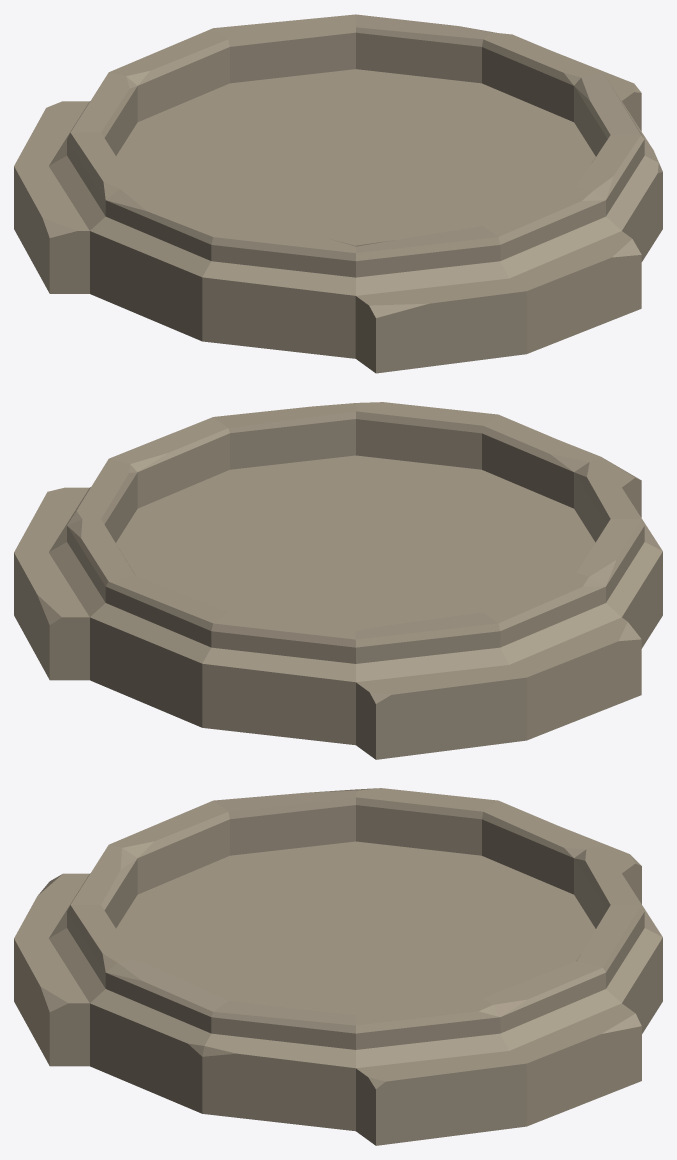
The model's file is kingdom_SM_Env_Fountain_01.gltf.
The picture shows the model from 3 angles, top to bottom: view 1: azimuth 30°, elevation 25°; view 2: azimuth 150°, elevation 25°; view 3: azimuth 270°, elevation 25°; orthographic projection.
Visible parts, largest first — view 1: SM_Env_Fountain_01; view 2: SM_Env_Fountain_01; view 3: SM_Env_Fountain_01.
Boxes of the visible parts, x1,y1,x2,y2 form: SM_Env_Fountain_01: (14, 14, 662, 373); SM_Env_Fountain_01: (14, 402, 662, 759); SM_Env_Fountain_01: (14, 788, 662, 1145).
Size of the model in its own units: 4.9 by 0.7626 by 4.65.
1 material, 1 textured.
